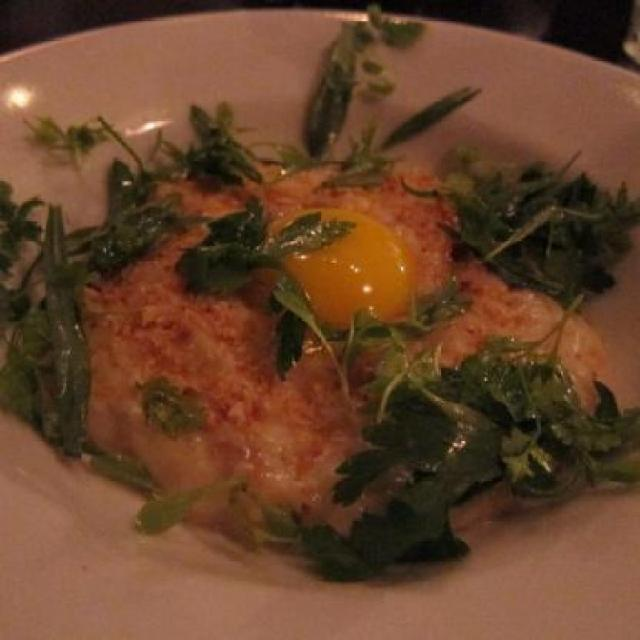Risotto: (38, 160, 616, 523)
